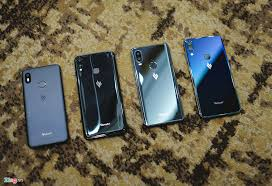vsmart: (13, 61, 69, 152), (70, 49, 126, 140), (128, 39, 184, 130), (185, 31, 241, 122)
